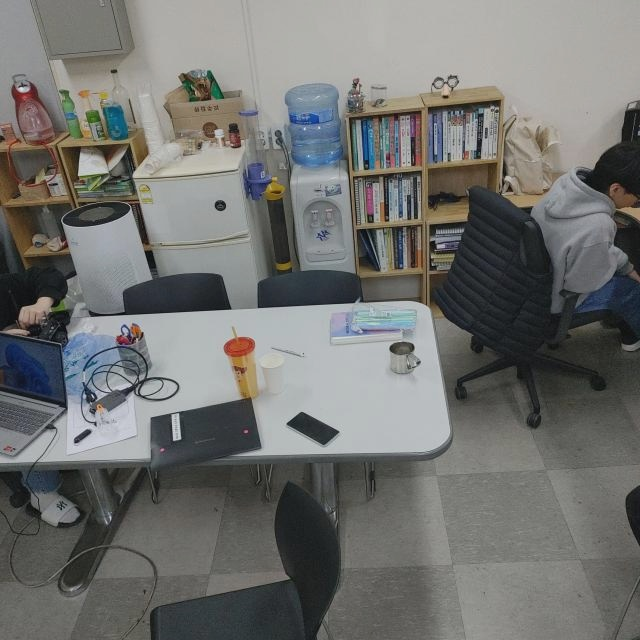cup: (388, 341, 420, 375)
phone: (285, 411, 338, 449)
